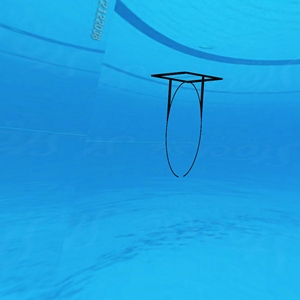circle: (147, 69, 224, 179)
